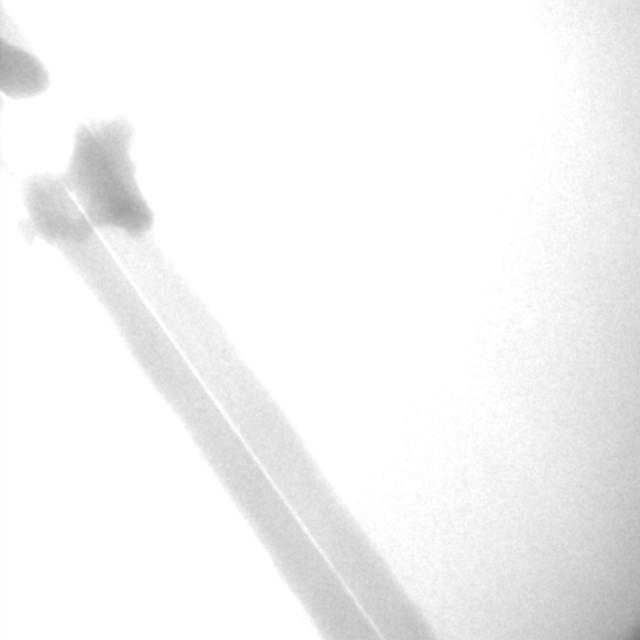broken arc: (4, 96, 381, 637)
